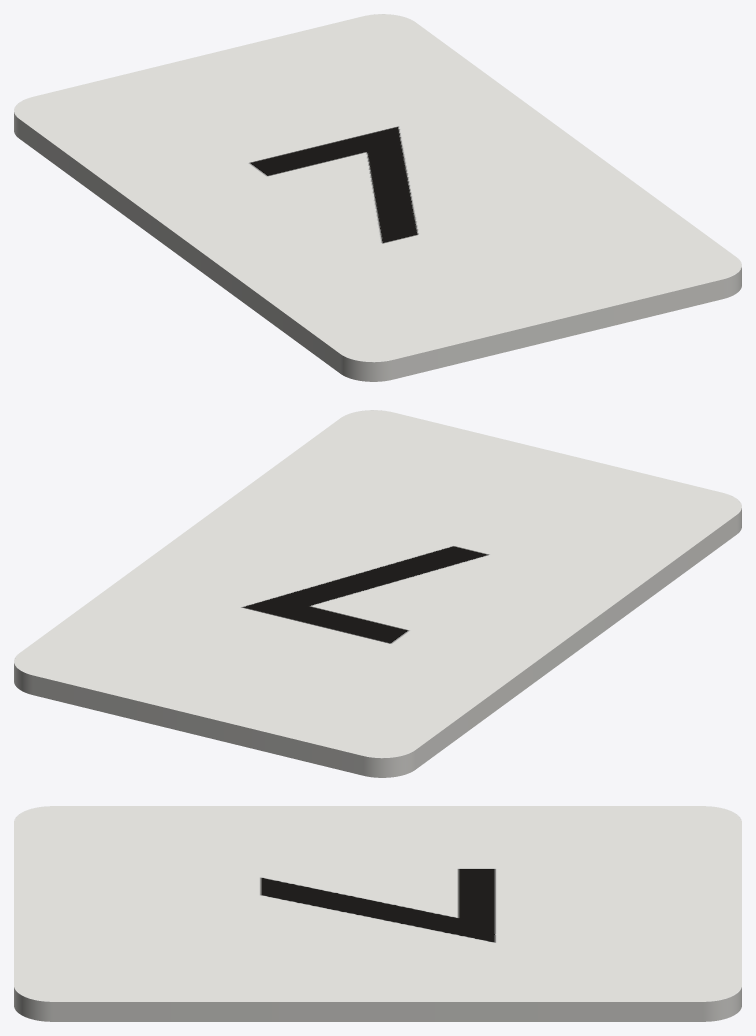
Rendered from white_7.glb.
3 renders of one model, top to bottom at view 1: azimuth 30°, elevation 25°; view 2: azimuth 150°, elevation 25°; view 3: azimuth 270°, elevation 25°, orthographic.
Parts seen in each view (by area): view 1: white_7; view 2: white_7; view 3: white_7.
Part boxes in pixels (x1,y1,x2,y2): white_7: (14, 14, 741, 381); white_7: (14, 410, 741, 777); white_7: (14, 806, 741, 1021).
Size of the model in its own units: 0.042 by 0.002 by 0.066.
2 materials, 1 textured.
